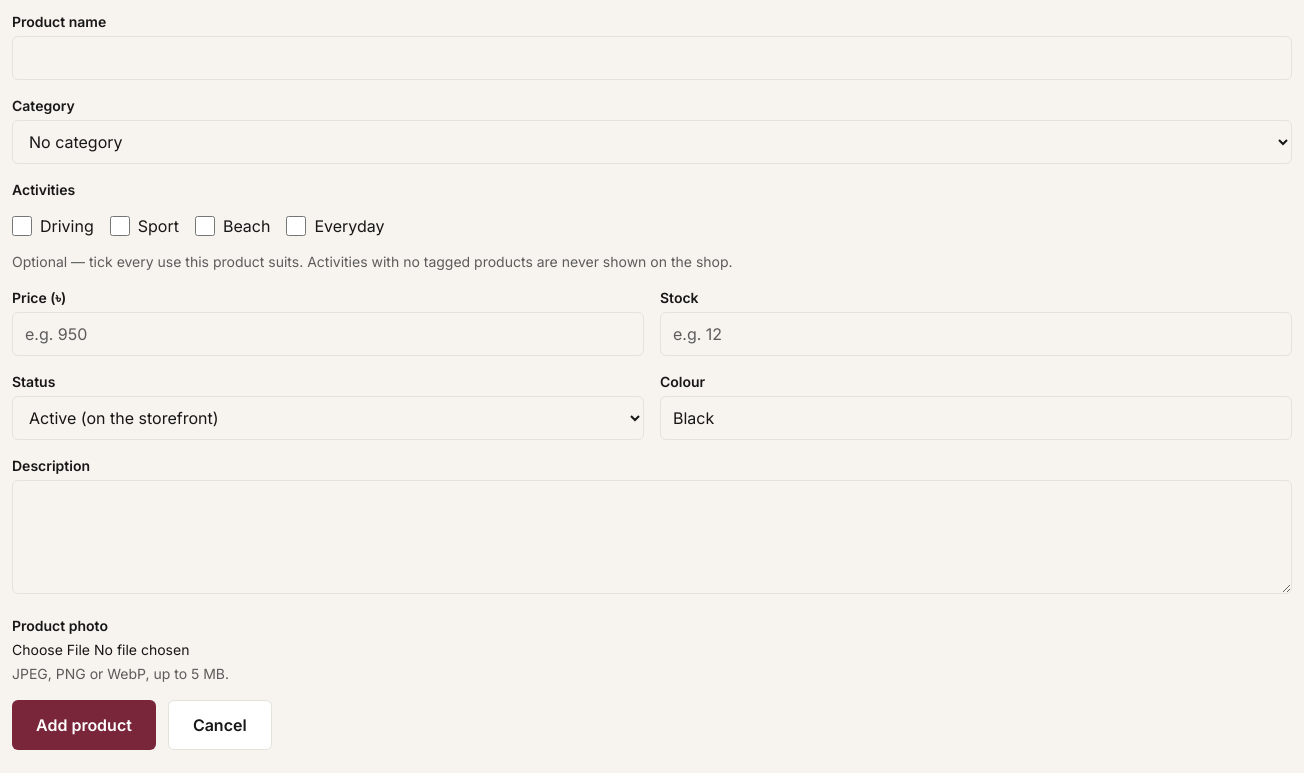
Test: ProductForm › blocks save with everything empty and never calls the API
Step 1. Click the button "Add product" → point(84, 725), box [12,700,156,750]
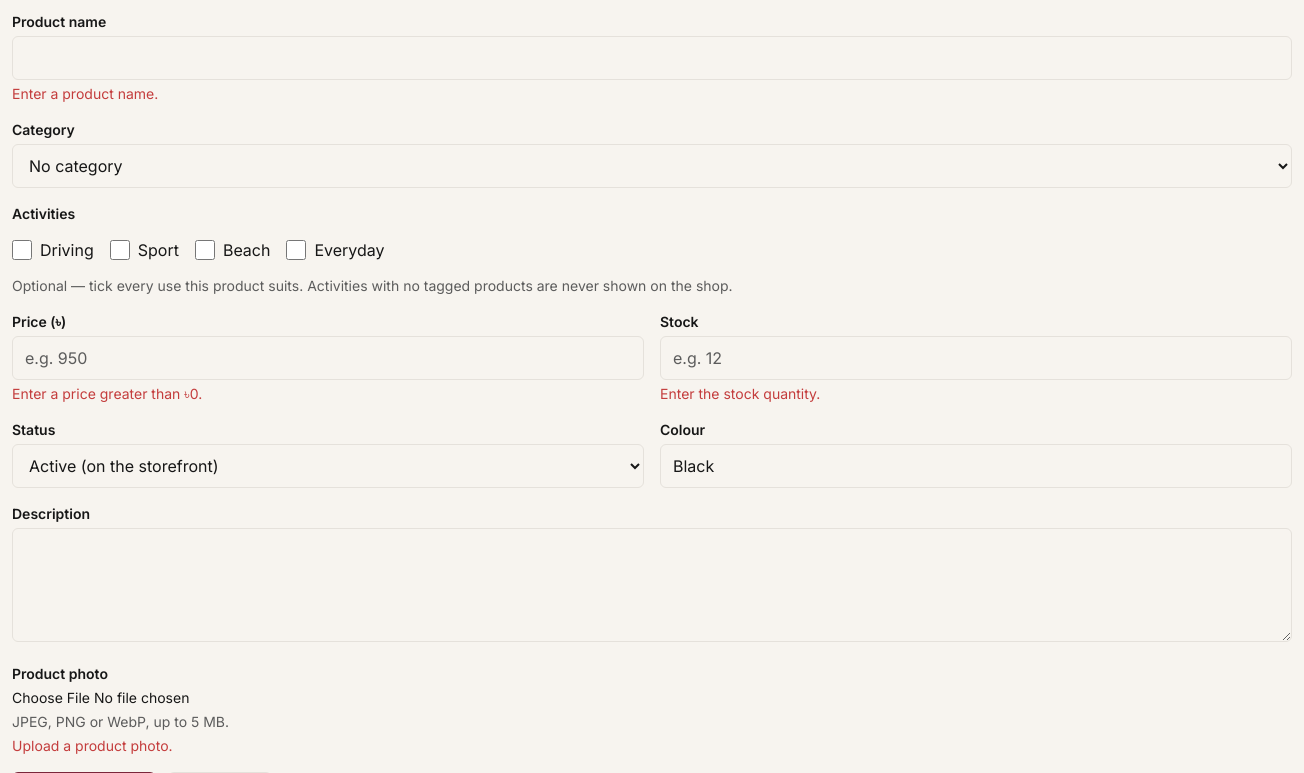
Result: the text "Enter a product name." is shown at [12,85,158,102]
Result: the text "Enter a price greater than ৳0." is shown at [12,385,202,402]
Result: the text "Enter the stock quantity." is shown at [660,385,820,402]
